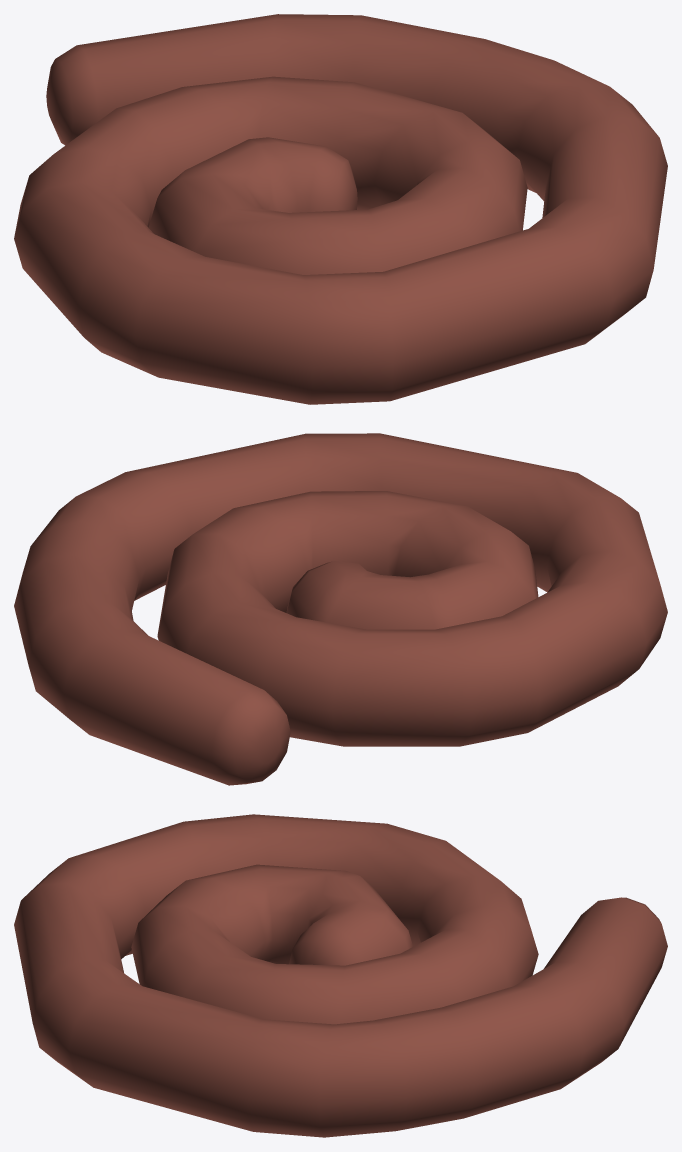
The model's file is Sausage_ring.005.fbx.
The picture shows the model from 3 angles, top to bottom: view 1: azimuth 30°, elevation 25°; view 2: azimuth 150°, elevation 25°; view 3: azimuth 270°, elevation 25°; orthographic projection. The views are drawn at different scales.
Visible parts, largest first — view 1: Sausage_ring.005; view 2: Sausage_ring.005; view 3: Sausage_ring.005.
Part boxes in pixels (box(x1,y1,x2,y2)): Sausage_ring.005: box(14, 14, 667, 404); Sausage_ring.005: box(14, 433, 667, 785); Sausage_ring.005: box(14, 814, 667, 1137).
Size of the model in its own units: 123 by 132 by 22.87.
